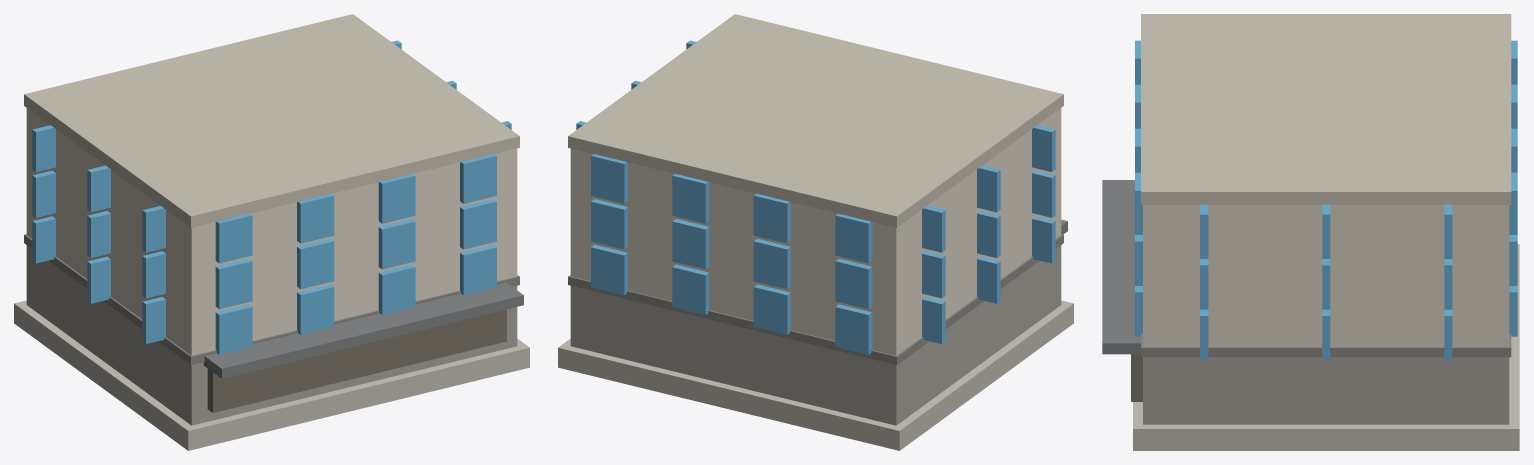
Rendered from com_loja.glb.
3 renders of one model, left to right at view 1: azimuth 30°, elevation 25°; view 2: azimuth 150°, elevation 25°; view 3: azimuth 270°, elevation 25°, orthographic. The views are drawn at different scales.
Parts seen in each view (by area): view 1: com_loja; view 2: com_loja; view 3: com_loja.
Boxes of the visible parts, x1,y1,x2,y2 form: com_loja: (14, 14, 529, 450); com_loja: (558, 14, 1073, 450); com_loja: (1102, 14, 1519, 450).
Size of the model in its own units: 0.46 by 0.277 by 0.41.
